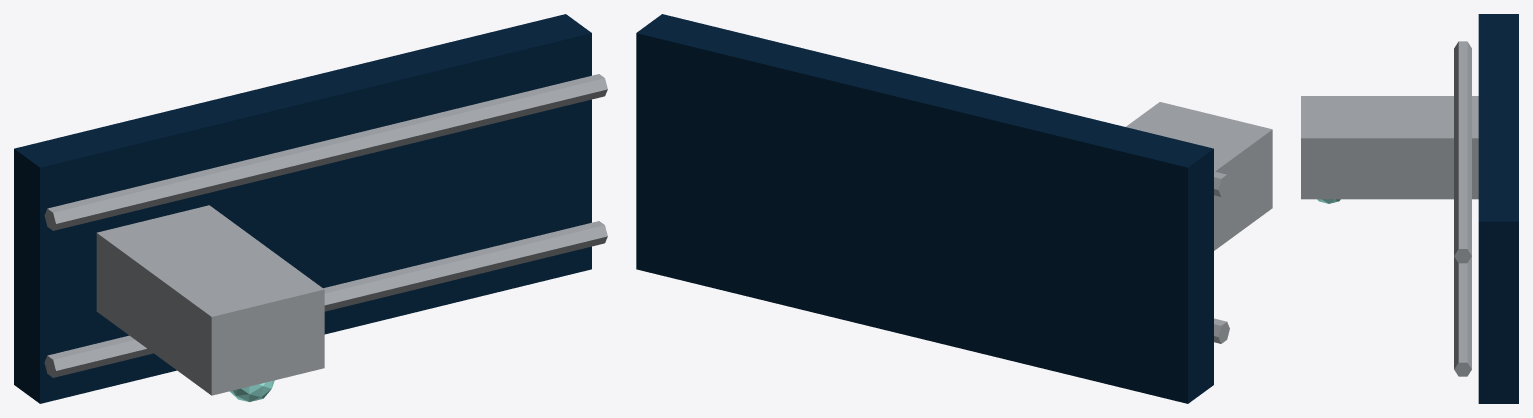
The model's file is 04_soundscape_landmark.glb.
3 renders of one model, left to right at view 1: azimuth 30°, elevation 25°; view 2: azimuth 150°, elevation 25°; view 3: azimuth 270°, elevation 25°, orthographic. The views are drawn at different scales.
Parts seen in each view (by area): view 1: railbed, signal_box, rail_r, rail_l, signal_light; view 2: railbed, signal_box; view 3: signal_box, railbed, rail_r, rail_l.
Part boxes in pixels (x1,y1,x2,y2): railbed: (14, 14, 591, 403); signal_box: (96, 205, 324, 395); rail_r: (44, 74, 607, 230); rail_l: (44, 221, 607, 377); signal_light: (229, 380, 274, 401); railbed: (636, 14, 1213, 403); signal_box: (1126, 102, 1272, 250); signal_box: (1301, 96, 1478, 199); railbed: (1478, 14, 1518, 403); rail_r: (1454, 41, 1471, 263); rail_l: (1454, 256, 1471, 376).
Bounding box in the file's own units: 2.2 × 0.9 × 0.975.
